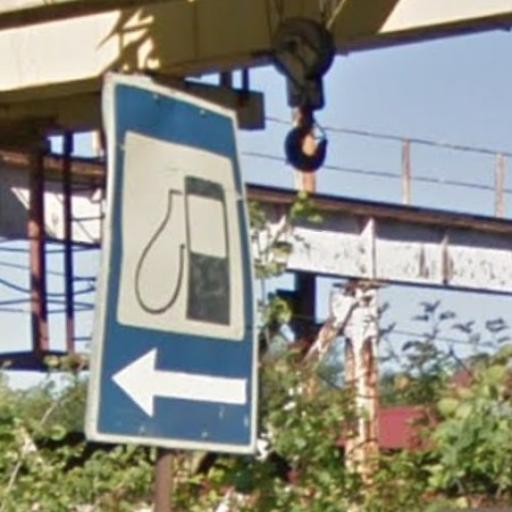traffic_sign: (84, 73, 262, 455)
